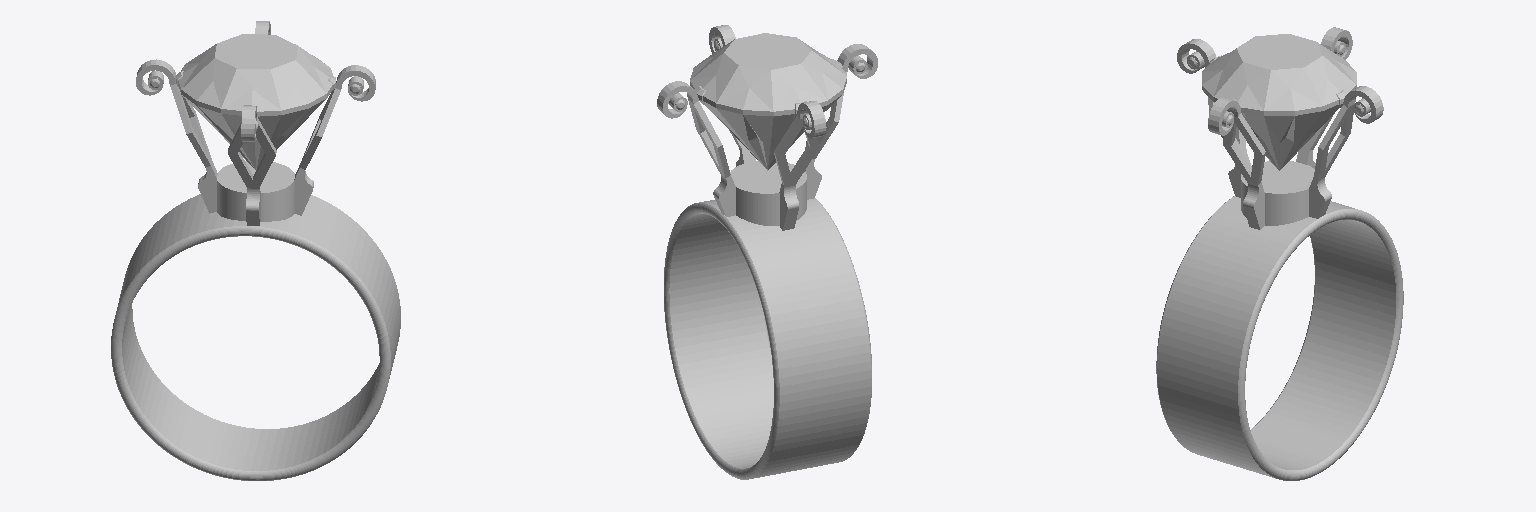
Rendered from Anel.obj.
3 views of the same model, side by side, from view 1: azimuth 30°, elevation 25°; view 2: azimuth 150°, elevation 25°; view 3: azimuth 270°, elevation 25° (orthographic).
Parts seen in each view (by area): view 1: Mesh31 Group16 Group2 Group1 Component_9_1 Model, Mesh46 Group21 Group20 Group1 Component_9_1 Model, Mesh9 Group7 Group2 Group1 Component_9_1 Model, Mesh26 Group14 Group2 Group1 Component_9_1 Model, Mesh23 Group13 Group2 Group1 Component_9_1 Model; view 2: Mesh31 Group16 Group2 Group1 Component_9_1 Model, Mesh46 Group21 Group20 Group1 Component_9_1 Model, Mesh9 Group7 Group2 Group1 Component_9_1 Model, Mesh20 Group12 Group2 Group1 Component_9_1 Model, Mesh26 Group14 Group2 Group1 Component_9_1 Model, Mesh23 Group13 Group2 Group1 Component_9_1 Model; view 3: Mesh31 Group16 Group2 Group1 Component_9_1 Model, Mesh46 Group21 Group20 Group1 Component_9_1 Model, Mesh23 Group13 Group2 Group1 Component_9_1 Model, Mesh20 Group12 Group2 Group1 Component_9_1 Model, Mesh26 Group14 Group2 Group1 Component_9_1 Model, Mesh9 Group7 Group2 Group1 Component_9_1 Model.
Boxes of the visible parts, x1=… form: Mesh31 Group16 Group2 Group1 Component_9_1 Model: x1=111, y1=161, x2=400, y2=480; Mesh46 Group21 Group20 Group1 Component_9_1 Model: x1=178, y1=34, x2=332, y2=169; Mesh9 Group7 Group2 Group1 Component_9_1 Model: x1=136, y1=59, x2=217, y2=213; Mesh26 Group14 Group2 Group1 Component_9_1 Model: x1=228, y1=105, x2=276, y2=225; Mesh23 Group13 Group2 Group1 Component_9_1 Model: x1=294, y1=65, x2=375, y2=215; Mesh31 Group16 Group2 Group1 Component_9_1 Model: x1=664, y1=161, x2=871, y2=479; Mesh46 Group21 Group20 Group1 Component_9_1 Model: x1=690, y1=33, x2=846, y2=170; Mesh9 Group7 Group2 Group1 Component_9_1 Model: x1=774, y1=101, x2=826, y2=230; Mesh20 Group12 Group2 Group1 Component_9_1 Model: x1=657, y1=81, x2=735, y2=216; Mesh26 Group14 Group2 Group1 Component_9_1 Model: x1=804, y1=44, x2=877, y2=199; Mesh23 Group13 Group2 Group1 Component_9_1 Model: x1=709, y1=25, x2=755, y2=166; Mesh31 Group16 Group2 Group1 Component_9_1 Model: x1=1156, y1=161, x2=1403, y2=480; Mesh46 Group21 Group20 Group1 Component_9_1 Model: x1=1202, y1=34, x2=1356, y2=170; Mesh23 Group13 Group2 Group1 Component_9_1 Model: x1=1208, y1=98, x2=1265, y2=229; Mesh20 Group12 Group2 Group1 Component_9_1 Model: x1=1309, y1=86, x2=1383, y2=218; Mesh26 Group14 Group2 Group1 Component_9_1 Model: x1=1177, y1=39, x2=1250, y2=197; Mesh9 Group7 Group2 Group1 Component_9_1 Model: x1=1296, y1=27, x2=1352, y2=168.
Bounding box in the file's own units: 0.3796 × 0.5967 × 0.3274.